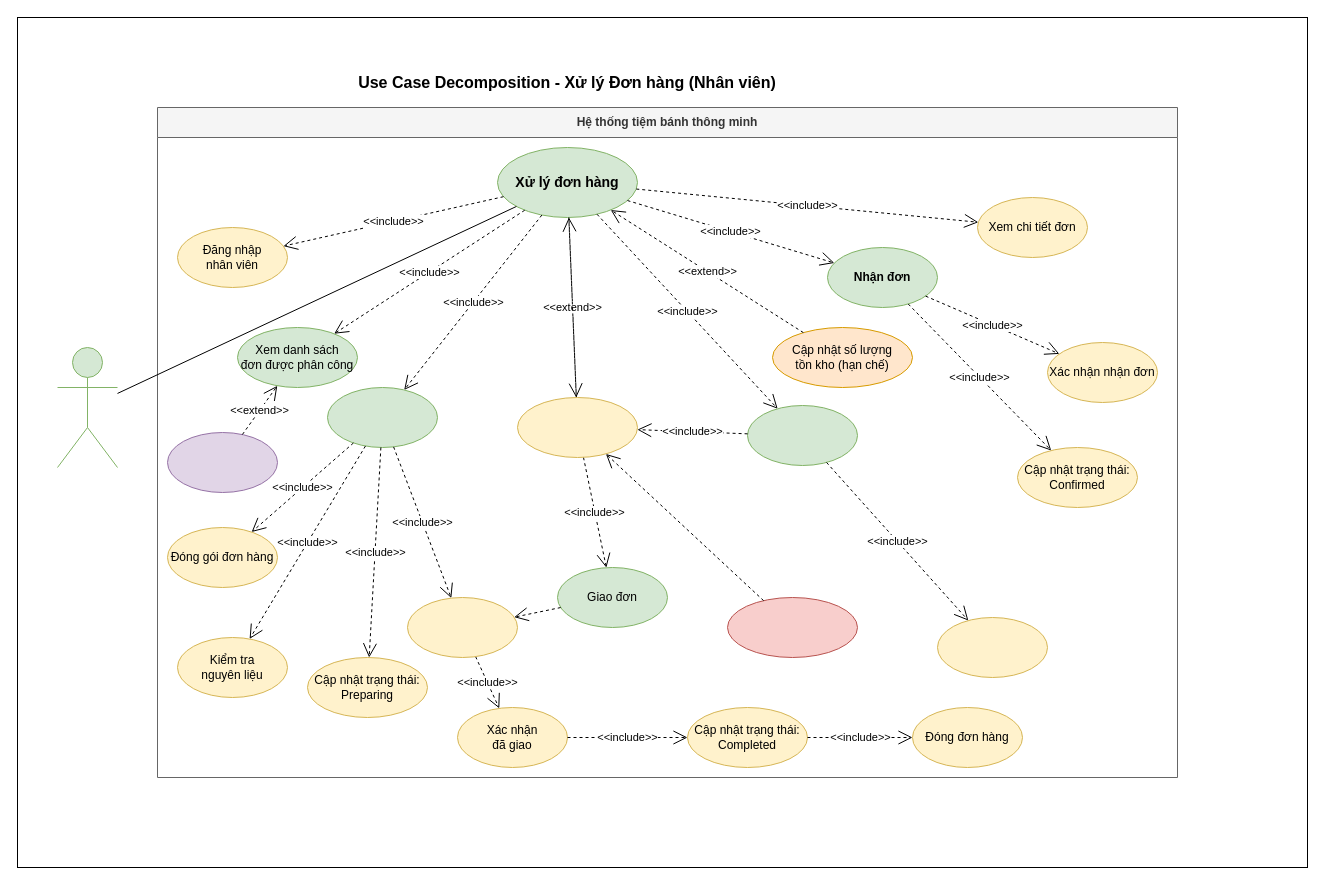
This 1325x885 diagram has some shape labels left out. Each missing label, with the box of its shape:
Báo cáo vấn đề với Admin: (726, 596, 858, 658)
Chuẩn bị bánh: (326, 386, 438, 448)
Cập nhật trạng thái: Ready: (516, 396, 638, 458)
Kiểm tra chất lượng: (406, 596, 518, 658)
Lọc đơn theo trạng thái: (166, 432, 278, 492)
Nhân viên: (56, 346, 118, 468)
Thông báo khách hàng: (936, 616, 1048, 678)
Đánh dấu sẵn sàng: (746, 404, 858, 466)
